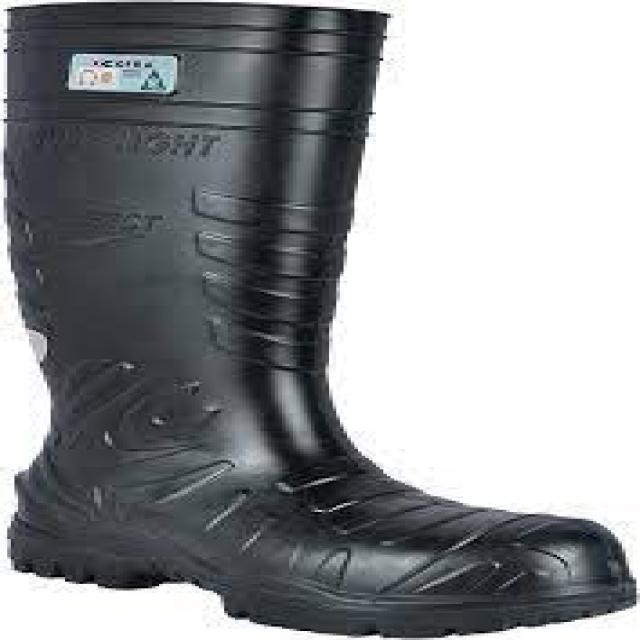shoes: (8, 2, 634, 636)
